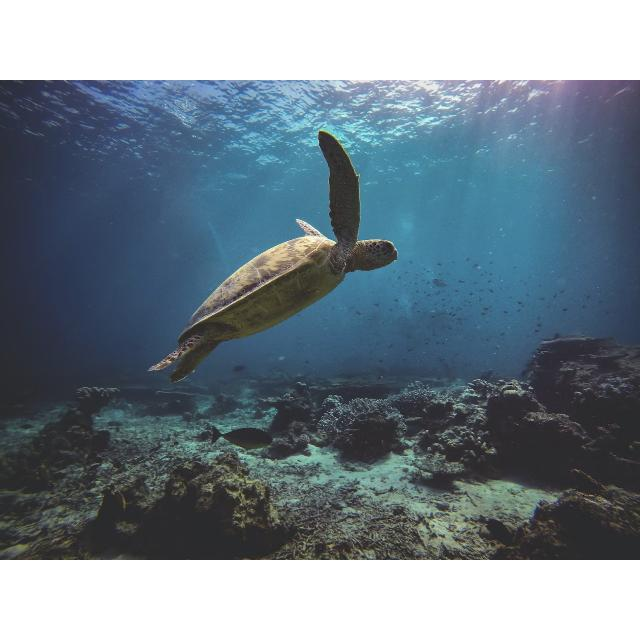turtle: (146, 130, 398, 384)
